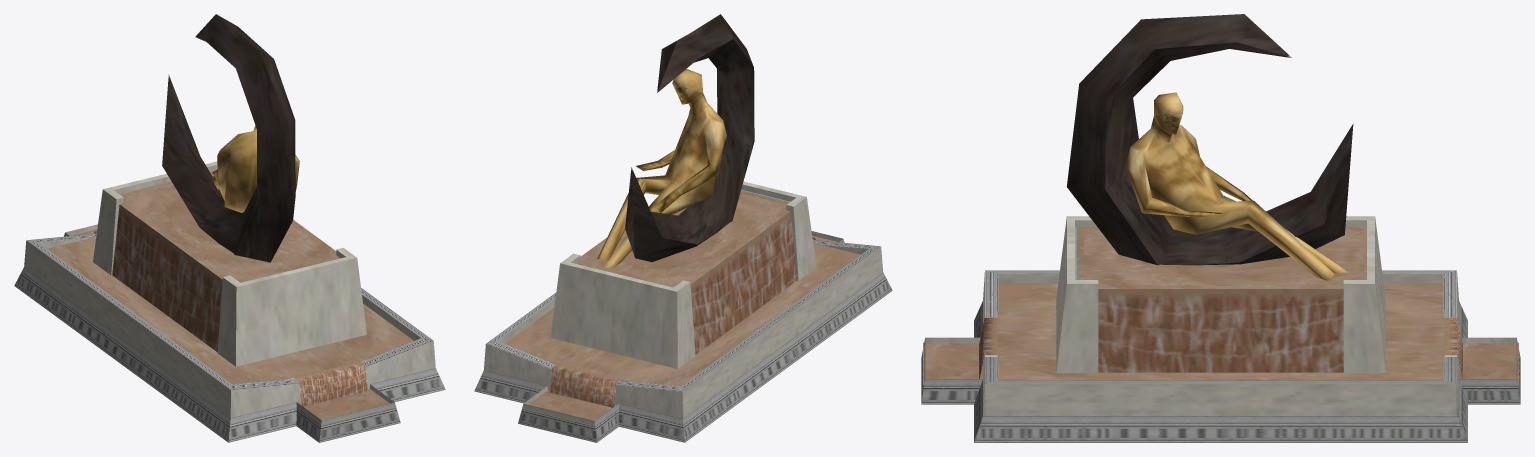
File: thm_corl_fountain_statue_contemplate_s01_l3.fbx
The picture shows the model from 3 angles, left to right: view 1: azimuth 30°, elevation 25°; view 2: azimuth 150°, elevation 25°; view 3: azimuth 270°, elevation 25°; orthographic projection. The views are drawn at different scales.
Visible parts, largest first — view 1: mesh_node; view 2: mesh_node; view 3: mesh_node.
Part boxes in pixels (x1,y1,x2,y2): mesh_node: (14, 14, 445, 442); mesh_node: (474, 14, 892, 442); mesh_node: (921, 14, 1520, 442).
Size of the model in its own units: 4.29 by 5.98 by 8.89.
Materials: 2 (2 with a texture image).
